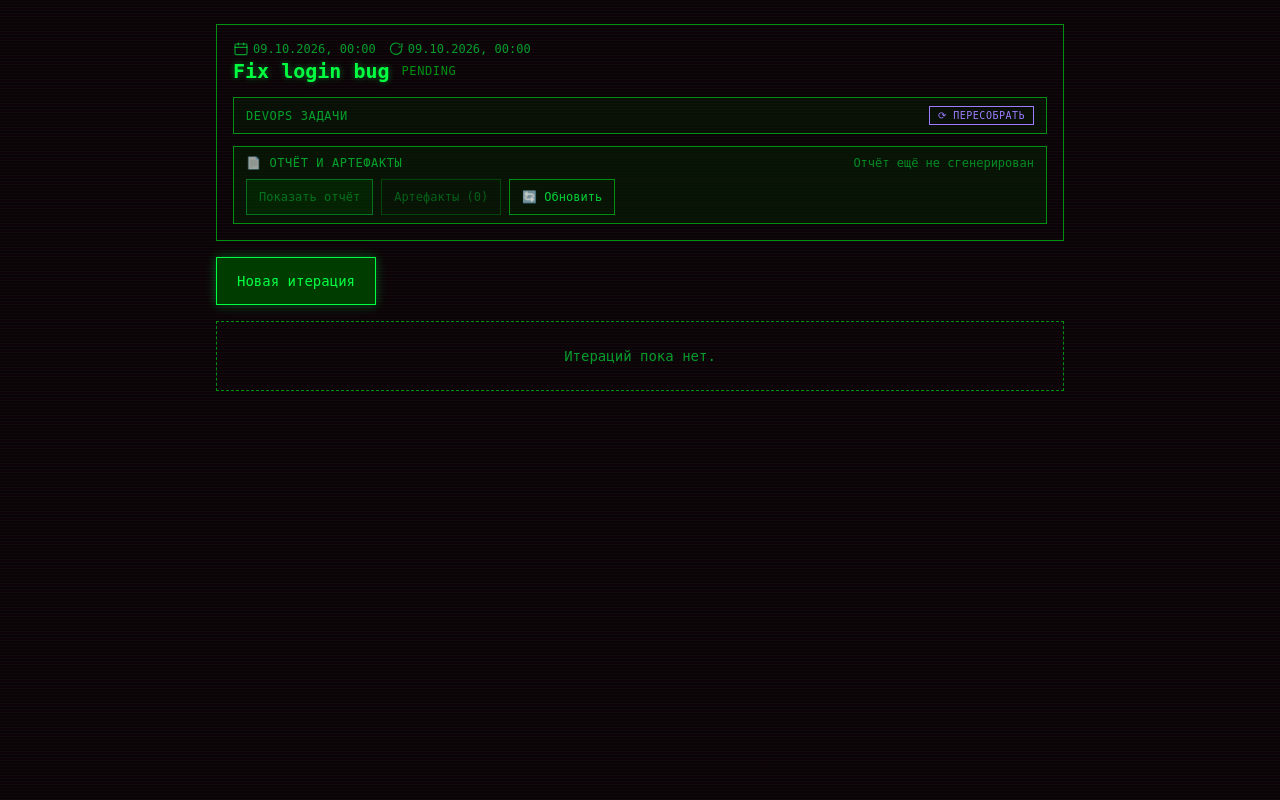
Test case: TaskDetail › canStart: нет итераций → форма новой итерации показана
Click the button with test id "open-iteration-modal". click: coordinates (296, 281)
box: left=216, top=257, right=376, bottom=305
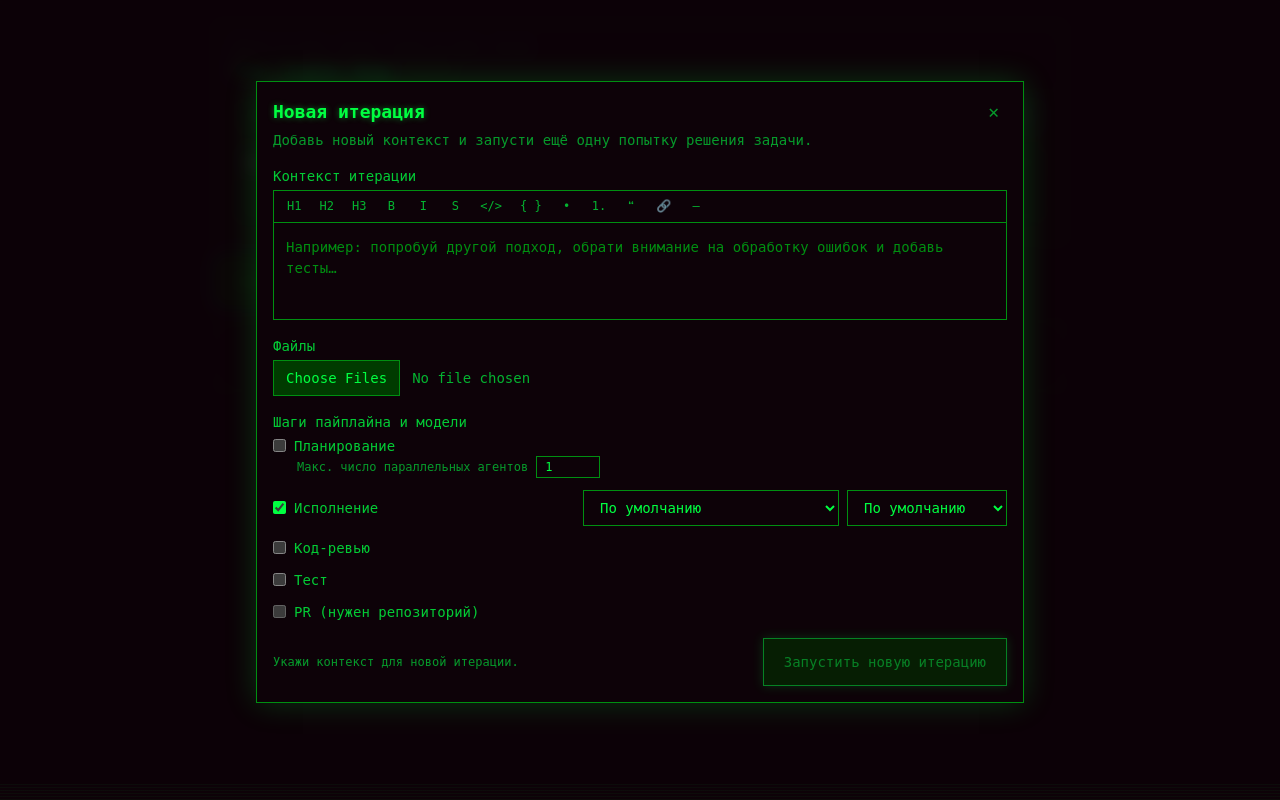
Now the element with test id "new-iteration-island" is shown, box left=256, top=81, right=1024, bottom=703
Now the field named "Контекст итерации" is shown, box left=274, top=223, right=1006, bottom=319
